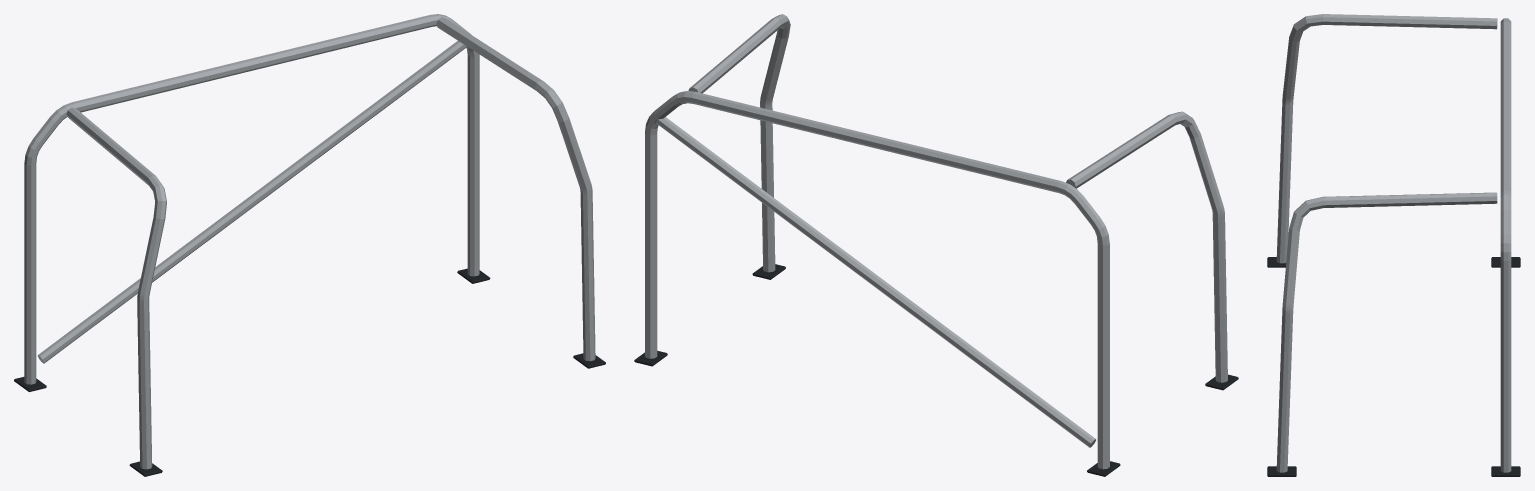
File: apex_v8.glb
3 renders of one model, left to right at view 1: azimuth 30°, elevation 25°; view 2: azimuth 150°, elevation 25°; view 3: azimuth 270°, elevation 25°, orthographic. The views are drawn at different scales.
Parts seen in each view (by area): view 1: model; view 2: model; view 3: model.
Boxes of the visible parts, bbox=[...] form: model: bbox=[14, 14, 605, 476]; model: bbox=[634, 14, 1238, 476]; model: bbox=[1267, 14, 1520, 476].
Size of the model in its own units: 1.75 by 0.9841 by 0.8599.
2 materials, 1 textured.
